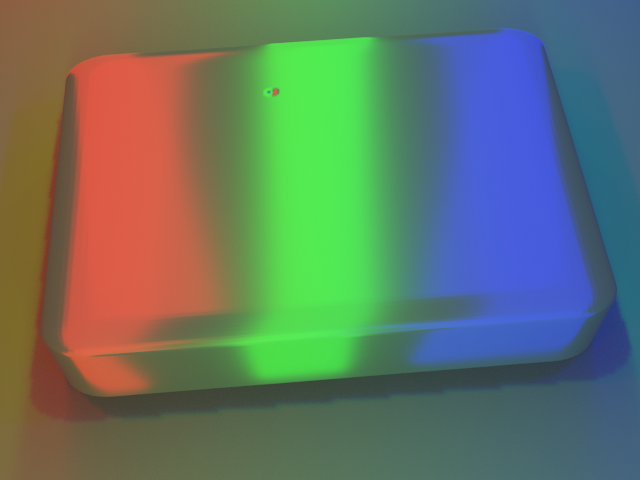dent: (248, 59, 287, 92)
